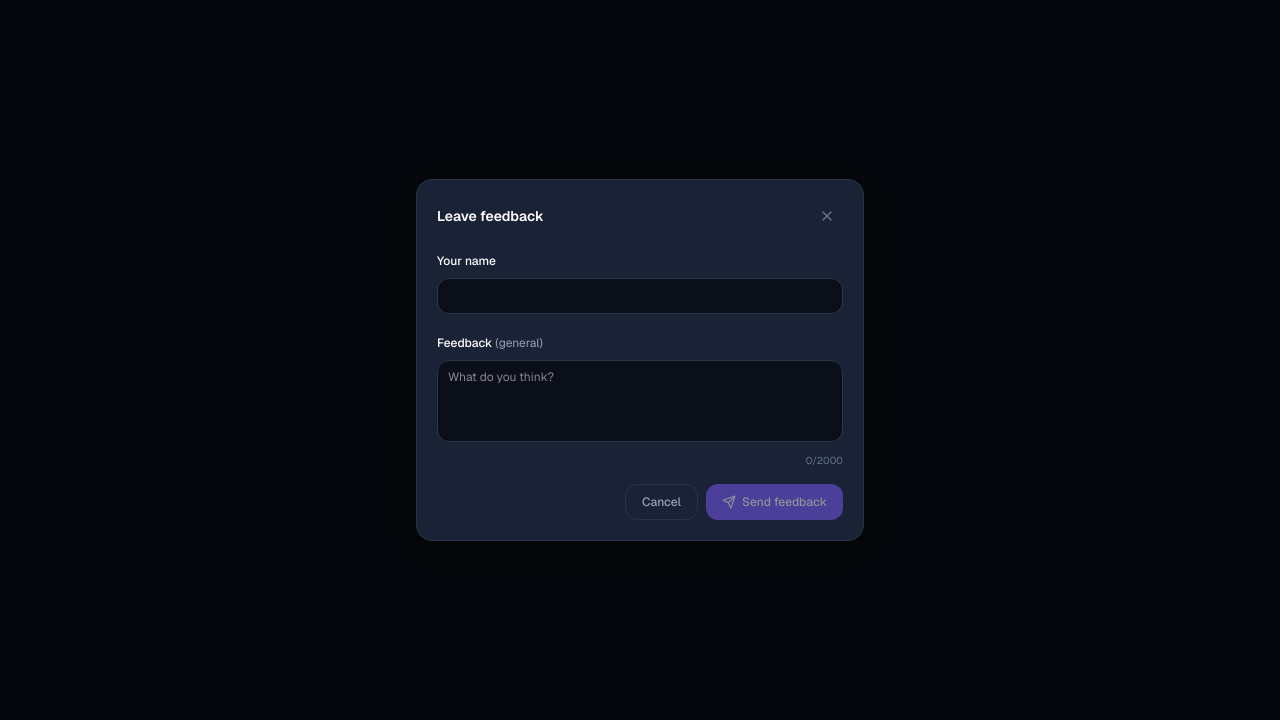
form › requires a name when the share requires one
This screenshot has width=1280, height=720.
Expected: the button with test id "feedback-submit" is disabled, top-left (706, 484), bottom-right (843, 520)
Type "Sam" into the field with test id "feedback-name" at x=640, y=296, box top-left (437, 278), bottom-right (843, 314)
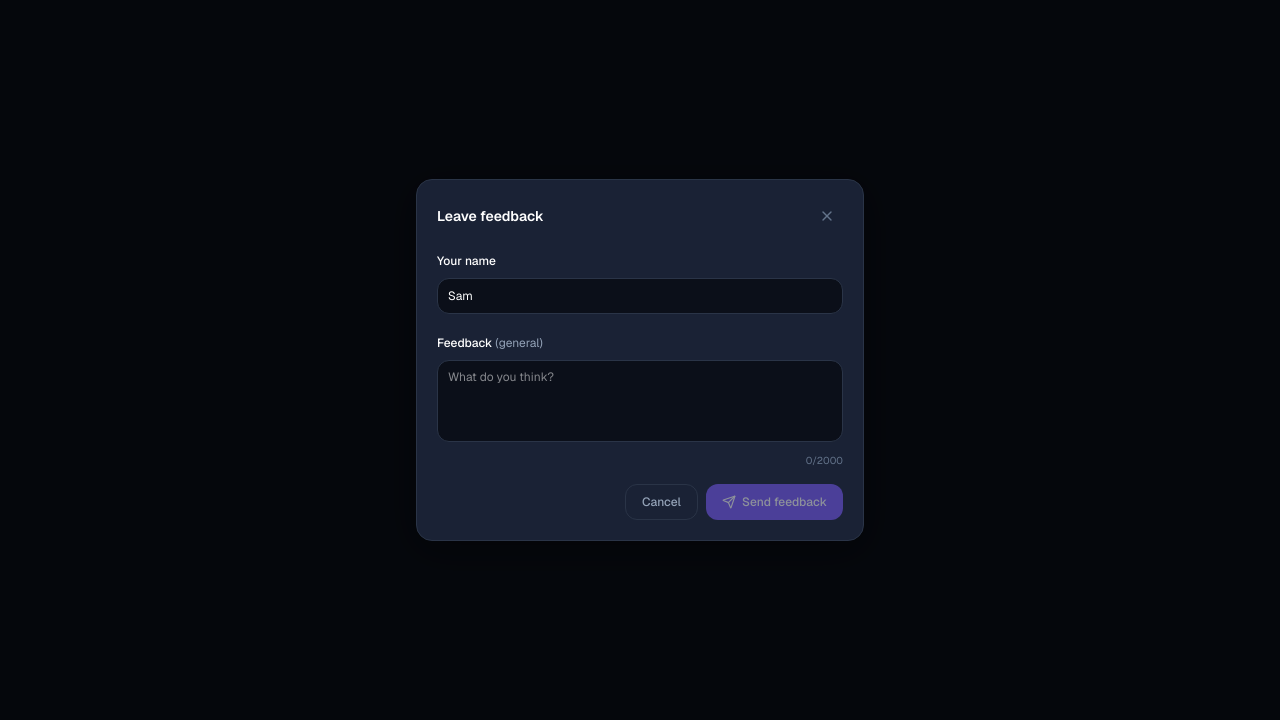
Type "Nice!" into the text box with test id "feedback-body" at x=640, y=401, box top-left (437, 360), bottom-right (843, 442)
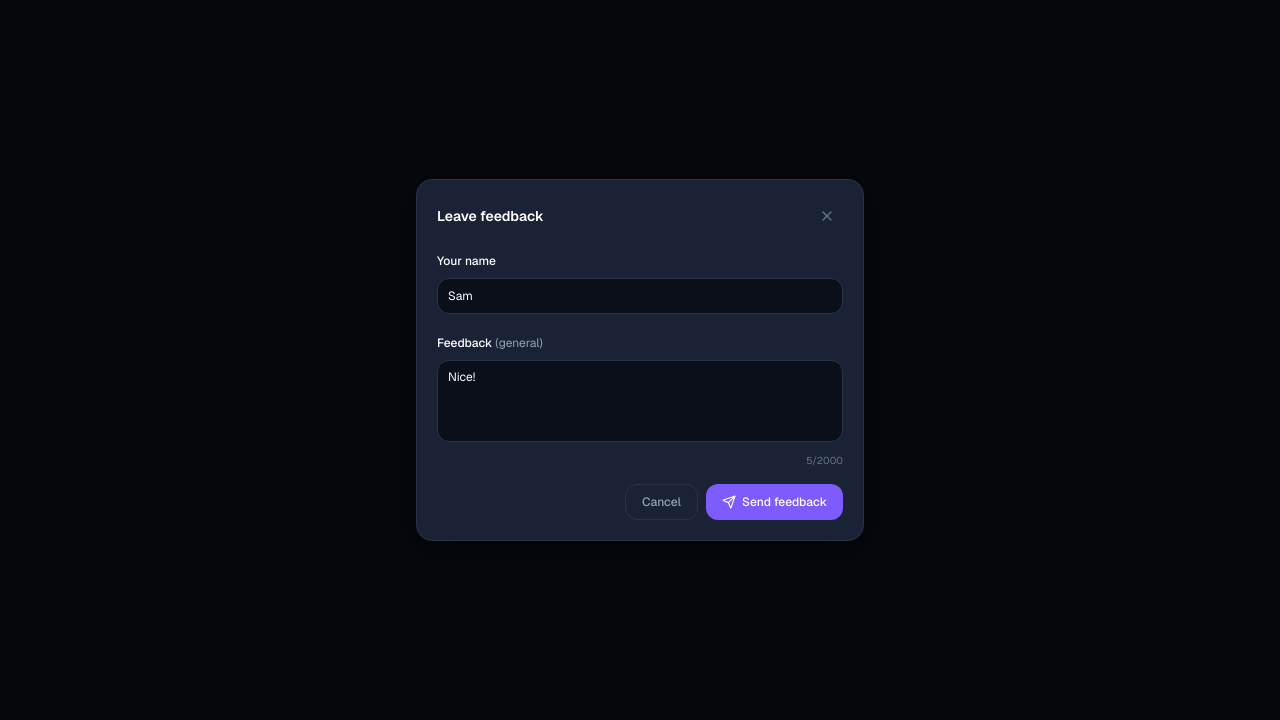
Expected: the button with test id "feedback-submit" is enabled, top-left (706, 484), bottom-right (843, 520)
